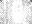person: (23, 20, 27, 24)
